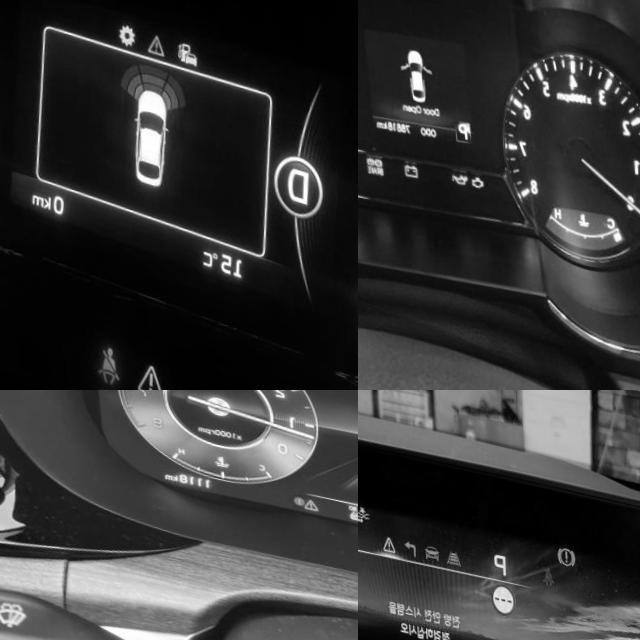Central Warning lamp: (132, 345, 160, 387), (145, 16, 165, 41), (382, 520, 394, 540), (300, 483, 317, 497)
